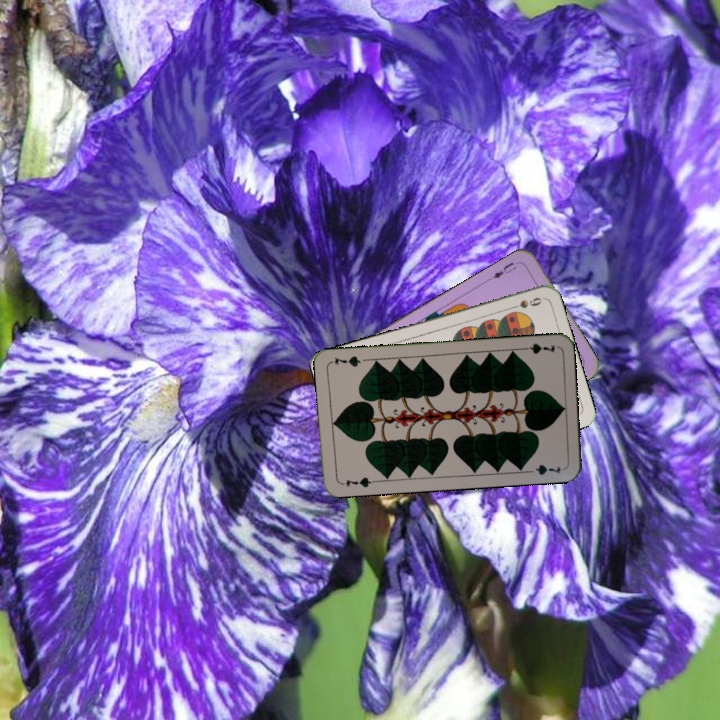EU: (486, 257, 523, 282)
G7: (517, 339, 558, 356), (337, 473, 378, 490)
S9: (505, 293, 544, 312)
